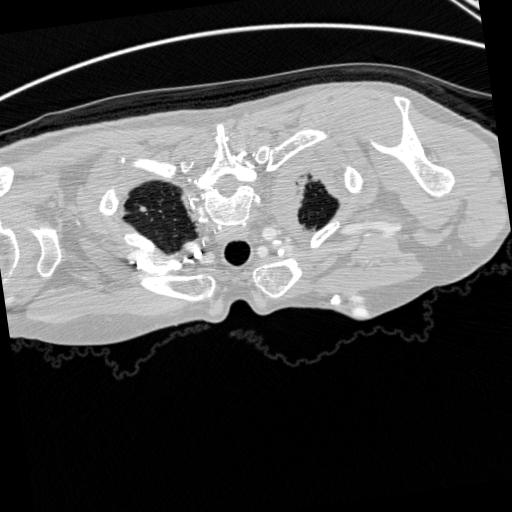nodule: (139, 204, 151, 216)
